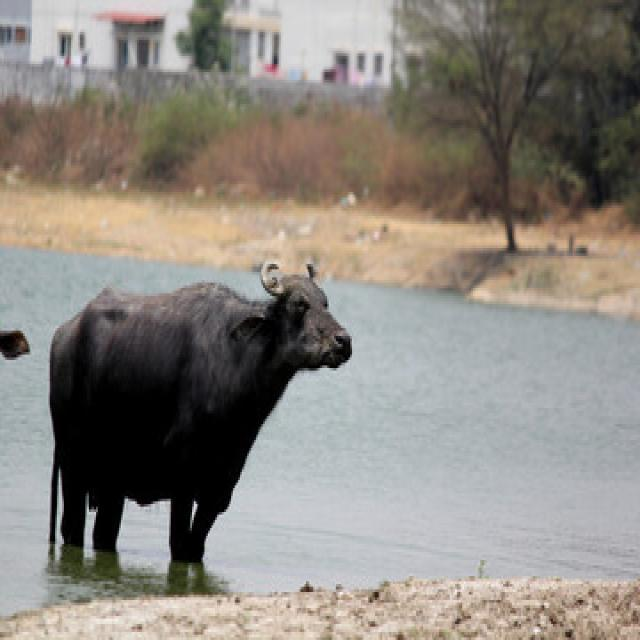Buffalo: (42, 258, 353, 571)
